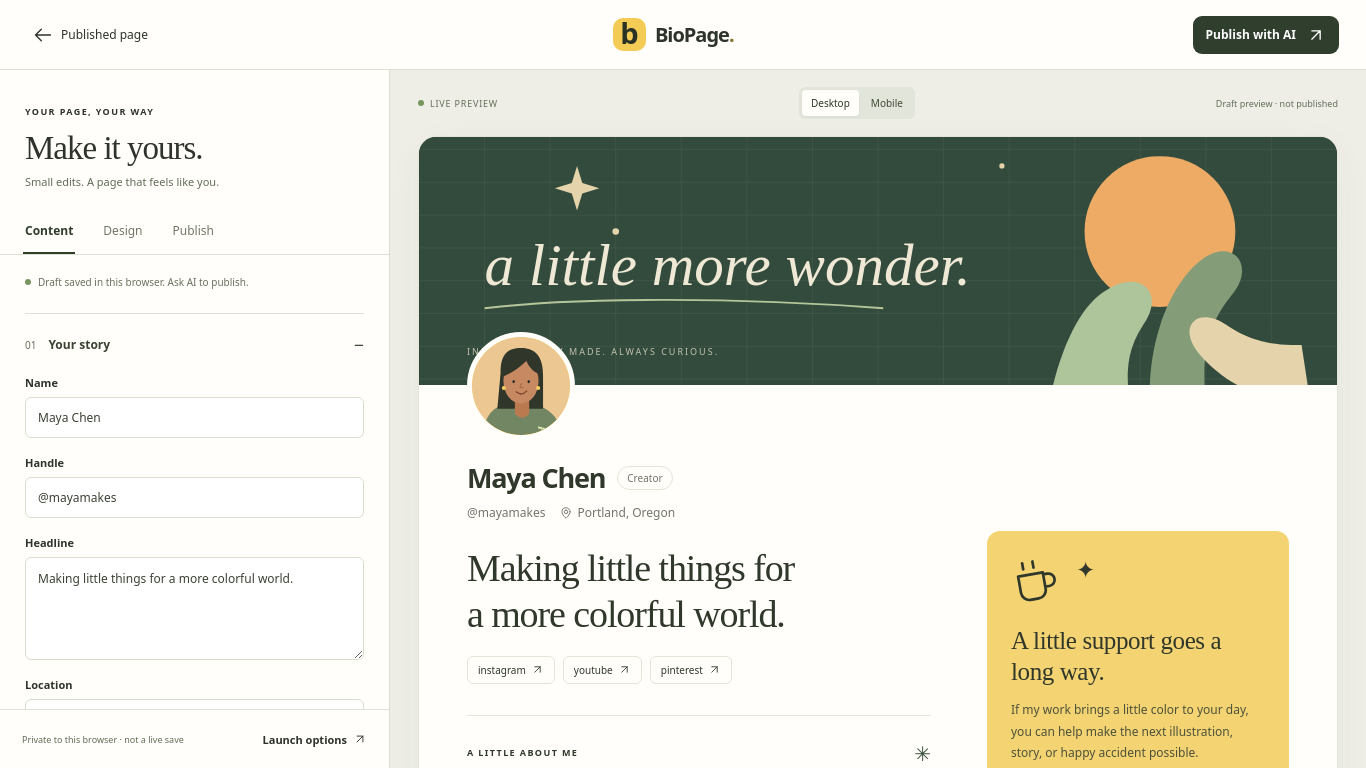
Test: BioPage DOM interactions (not browser layout tests) › persists a valid name immediately while keeping the published page unchanged
Check: the heading "Maya Chen" is shown, box [467,459,605,496]
Replace the text in the field labelled "Name" with "Alex Maker" at (194, 418), box [25,397,364,438]
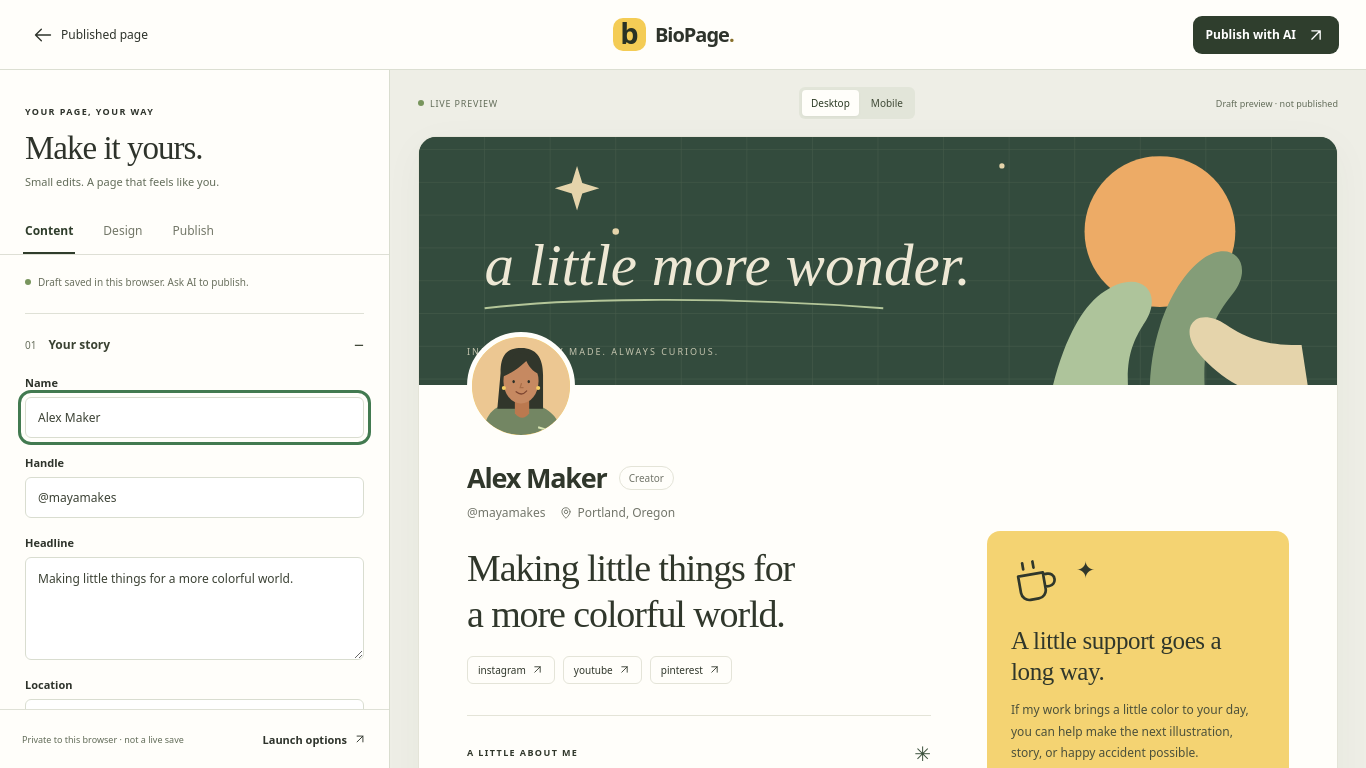
Check: the heading named "Maya Chen" reads "Alex Maker", box [467,459,607,496]
Click the button "Published page".
click(90, 34)  # box [27,24,154,46]
(page scrolled)
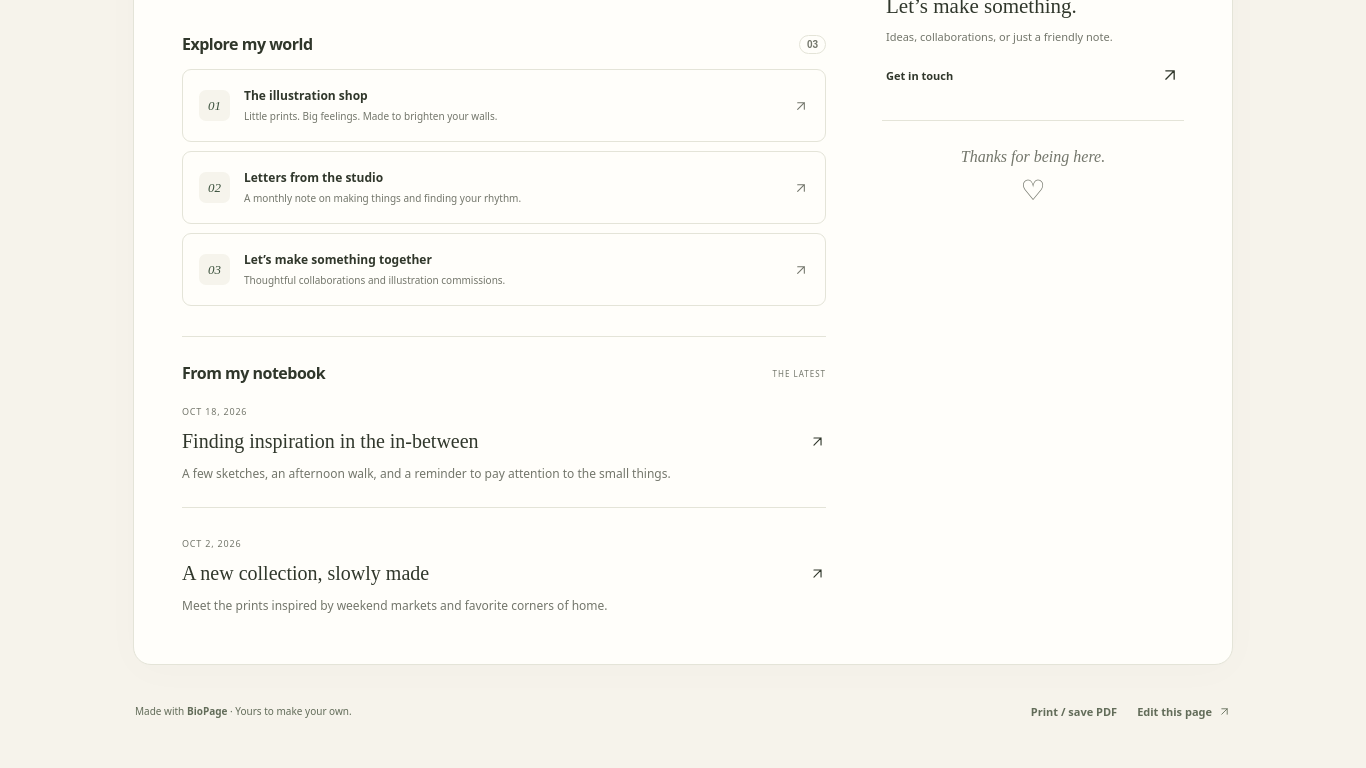
Click the button "Edit this page".
click(1184, 711)  # box [1137,694,1231,728]
(page scrolled)
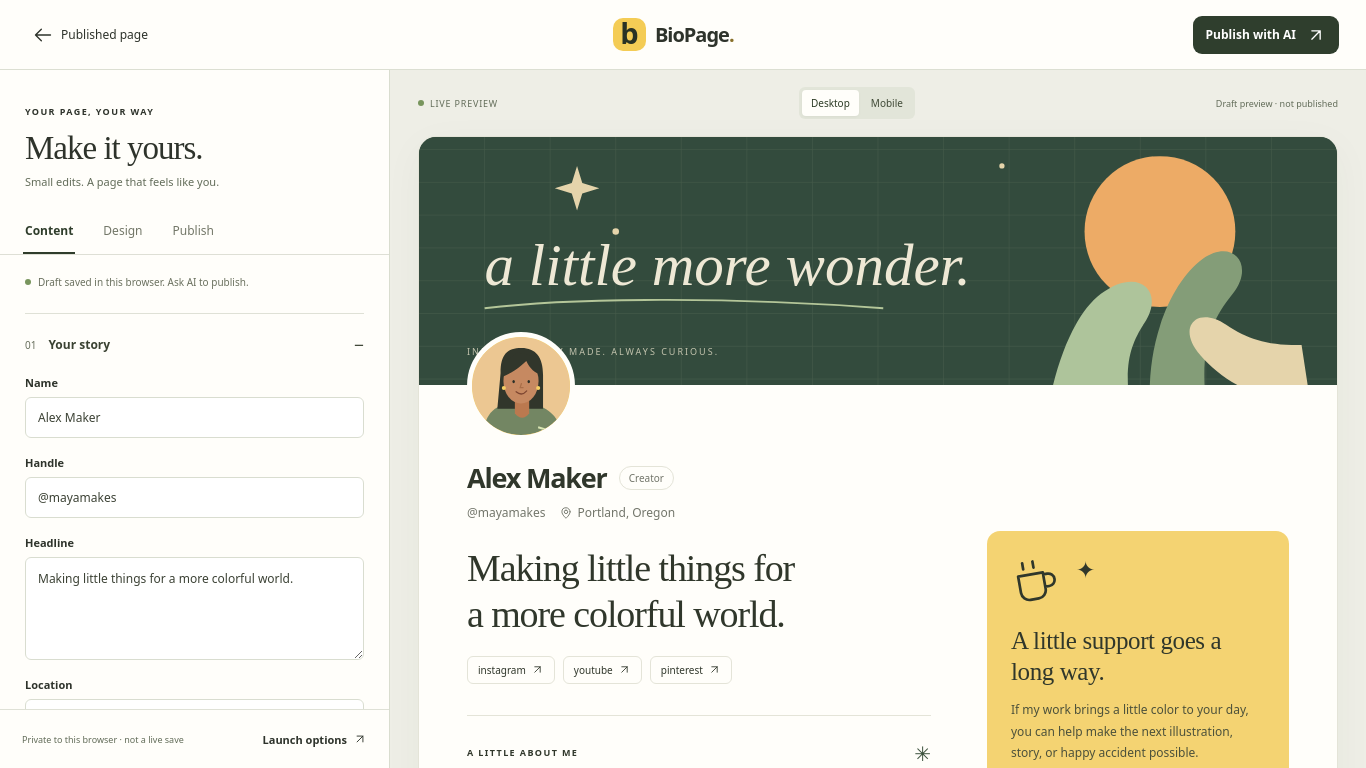
Check: the field labelled "Name" holds "Alex Maker", box [25,397,364,438]
